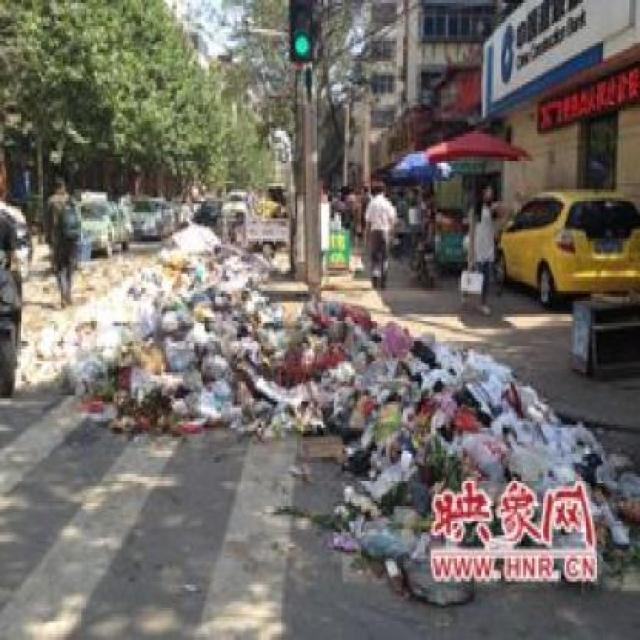garbage: (32, 288, 390, 430), (368, 329, 564, 481), (156, 216, 236, 425)
